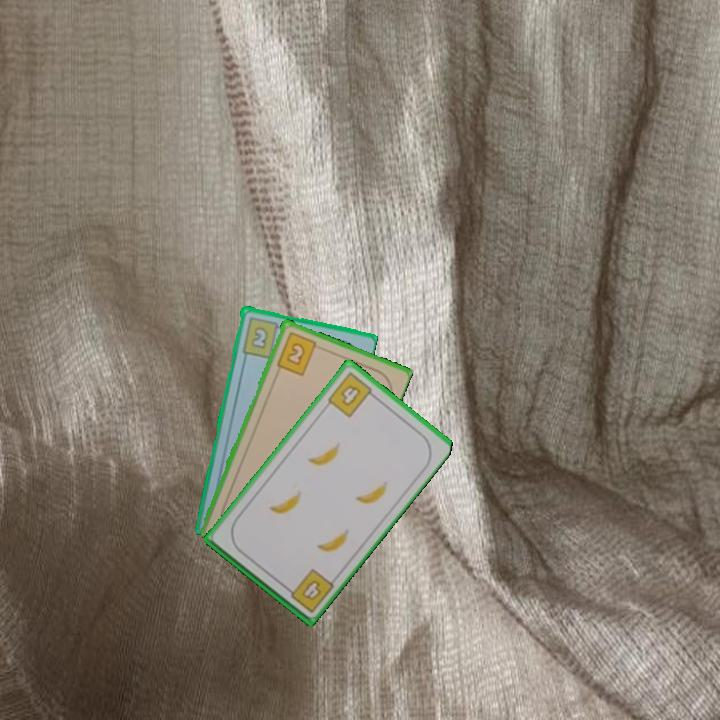2b: (273, 328, 324, 378), (238, 313, 286, 360)
4b: (324, 368, 379, 421), (281, 565, 336, 616)
